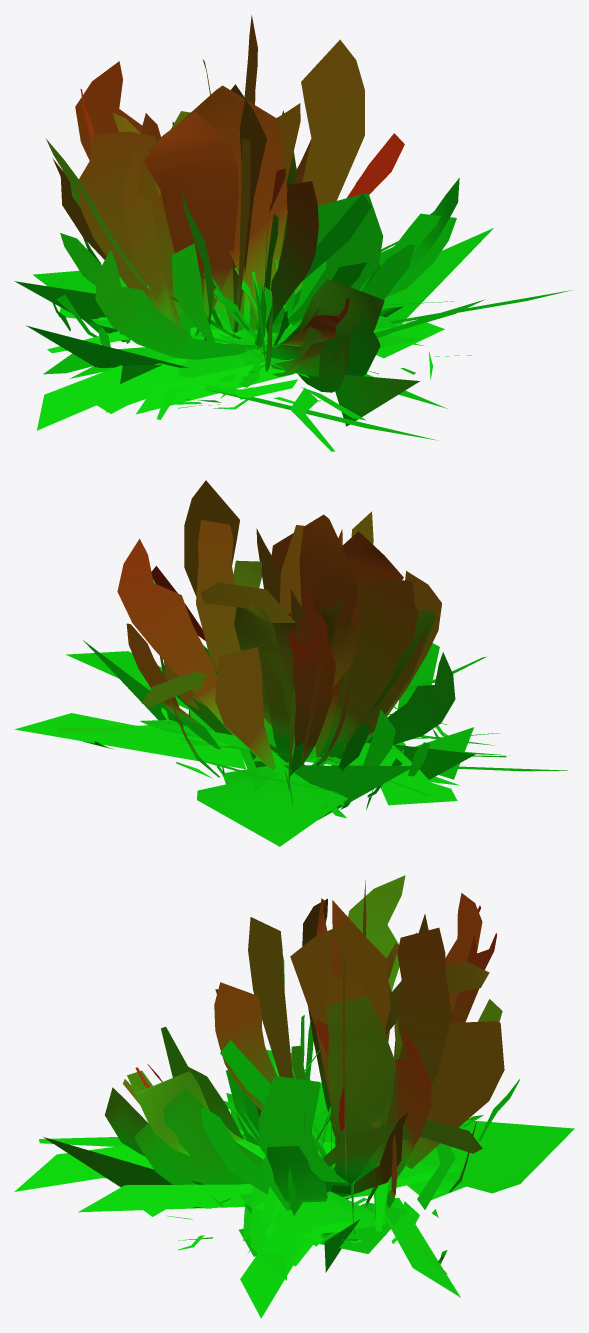
The model's file is Var5_LOD3.fbx.
3 renders of one model, top to bottom at view 1: azimuth 30°, elevation 25°; view 2: azimuth 150°, elevation 25°; view 3: azimuth 270°, elevation 25°, orthographic. The views are drawn at different scales.
Visible parts, largest first — view 1: _y0ej_Var5_LOD3; view 2: _y0ej_Var5_LOD3; view 3: _y0ej_Var5_LOD3.
Boxes of the visible parts, x1,y1,x2,y2 form: _y0ej_Var5_LOD3: [14, 15, 572, 451]; _y0ej_Var5_LOD3: [14, 480, 567, 846]; _y0ej_Var5_LOD3: [14, 875, 574, 1318].
Bounding box in the file's own units: 128 × 66.29 × 111.
